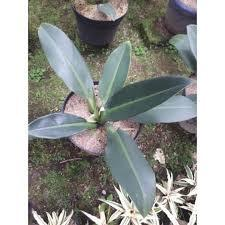jasmine: (21, 61, 151, 155)
